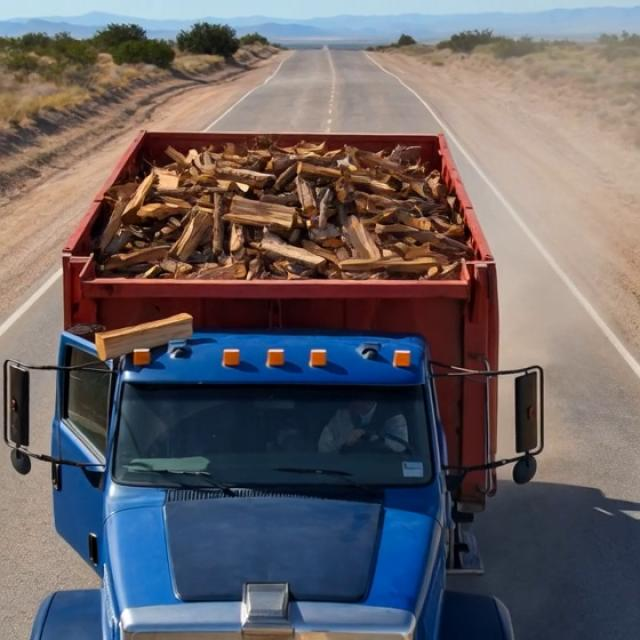Box: (46, 117, 494, 319)
Truck: (5, 113, 568, 638)
